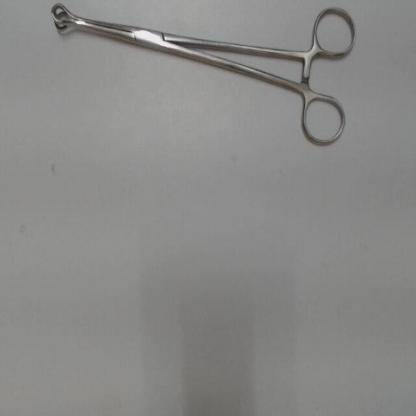8 Babcock Tissue Forceps: (48, 1, 358, 153)
